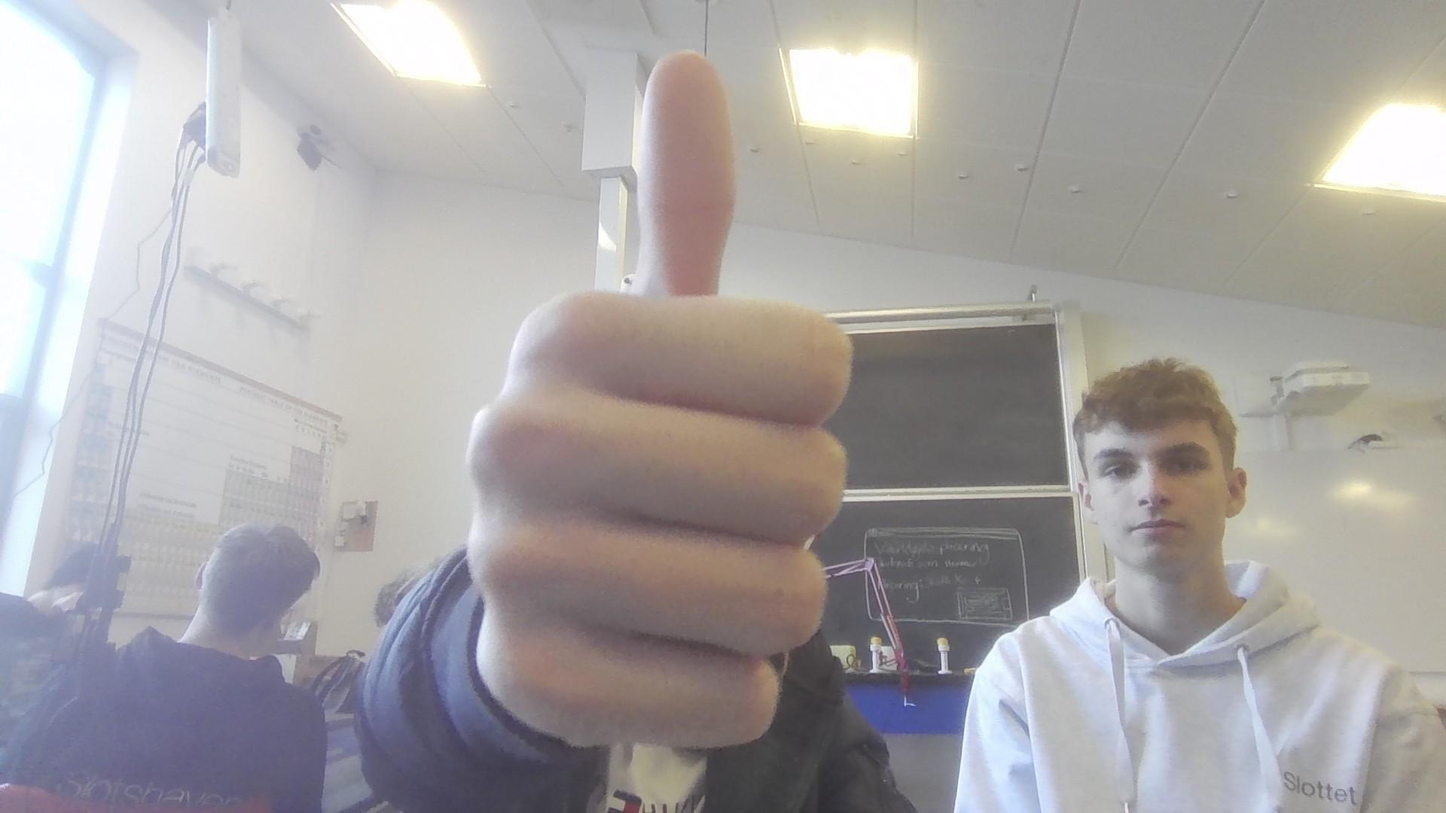thumbs up: (472, 50, 855, 743)
